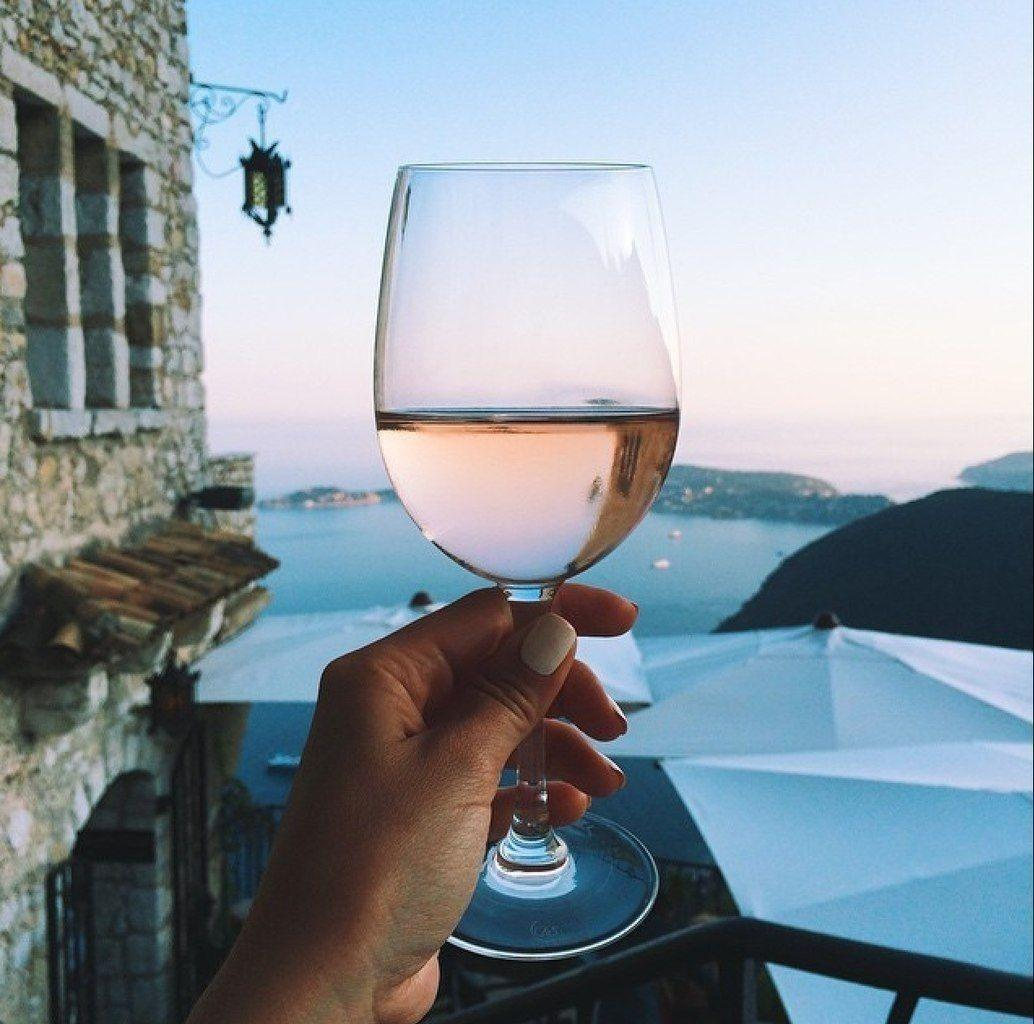glass-wine: (368, 153, 685, 964)
